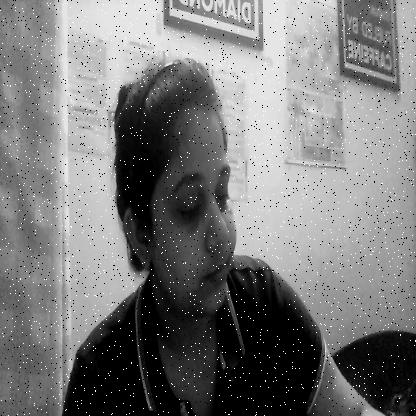Distracted: (125, 70, 238, 320)
